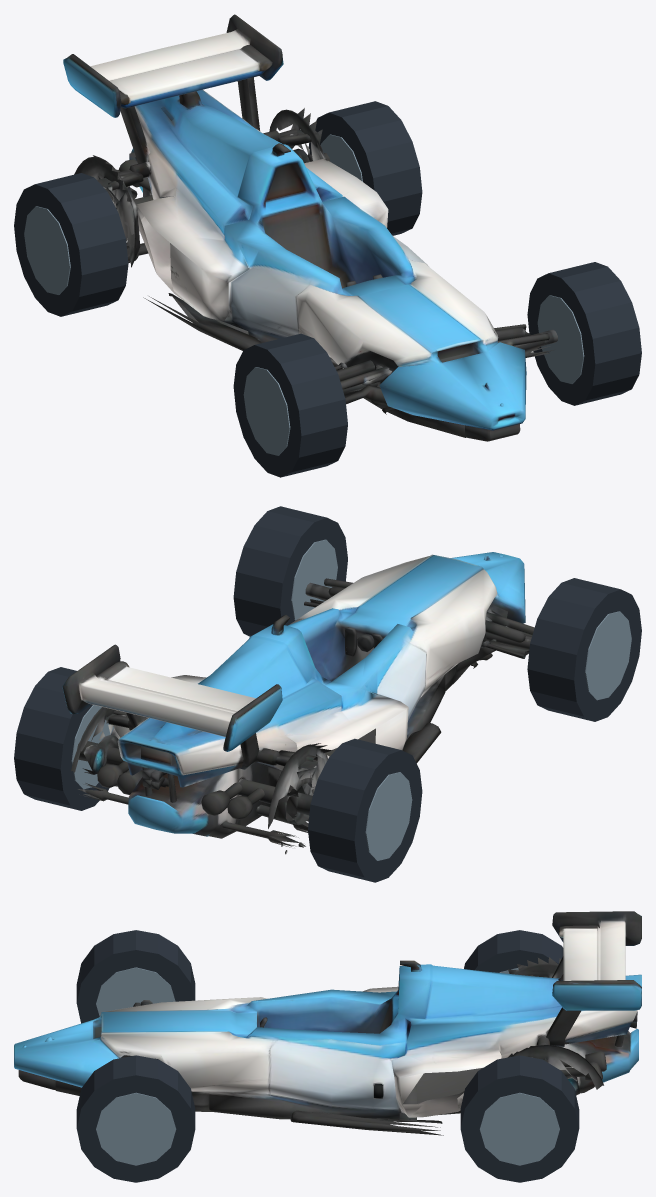
Rendered from car.glb.
3 renders of one model, top to bottom at view 1: azimuth 30°, elevation 25°; view 2: azimuth 150°, elevation 25°; view 3: azimuth 270°, elevation 25°, orthographic. The views are drawn at different scales.
Parts seen in each view (by area): view 1: Car_Body, Wheel_FL, Wheel_RL, Wheel_FR, Wheel_RR; view 2: Car_Body, Wheel_RL, Wheel_FL, Wheel_FR, Wheel_RR; view 3: Car_Body, Wheel_FR, Wheel_RR, Wheel_FL, Wheel_RL.
Part boxes in pixels (x1=…): Car_Body: x1=63, y1=14, x2=557, y2=441; Wheel_FL: x1=233, y1=333, x2=347, y2=477; Wheel_RL: x1=14, y1=173, x2=128, y2=316; Wheel_FR: x1=527, y1=262, x2=641, y2=405; Wheel_RR: x1=308, y1=101, x2=422, y2=235; Car_Body: x1=62, y1=552, x2=534, y2=854; Wheel_RL: x1=308, y1=738, x2=422, y2=882; Wheel_FL: x1=527, y1=578, x2=641, y2=721; Wheel_FR: x1=233, y1=506, x2=347, y2=636; Wheel_RR: x1=14, y1=667, x2=113, y2=810; Car_Body: x1=14, y1=911, x2=641, y2=1135; Wheel_FR: x1=76, y1=1055, x2=195, y2=1182; Wheel_RR: x1=460, y1=1055, x2=579, y2=1182; Wheel_FL: x1=76, y1=930, x2=195, y2=1023; Wheel_RL: x1=464, y1=930, x2=563, y2=973.
Size of the model in its own units: 1.98 by 1.04 by 3.6.
3 materials, 1 textured.
